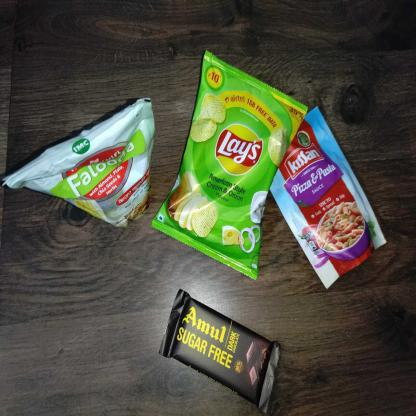cream_and_onion: (151, 49, 293, 281)
